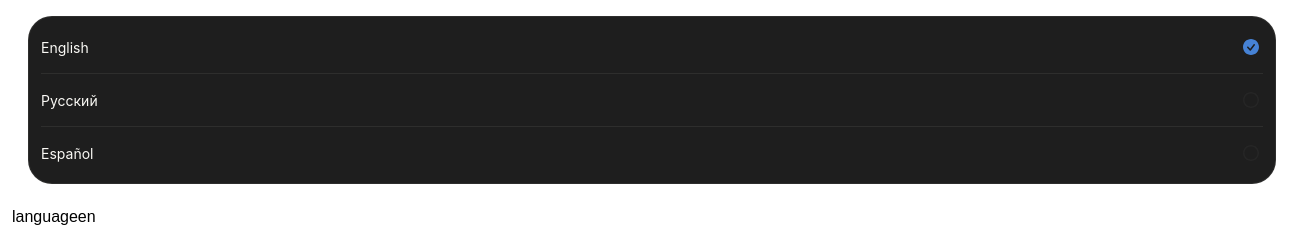
Test: LanguageScreen › selecting a language persists it to preferences without navigating away
Click the button "Русский".
click(69, 100)  # box [41,74,1263,126]
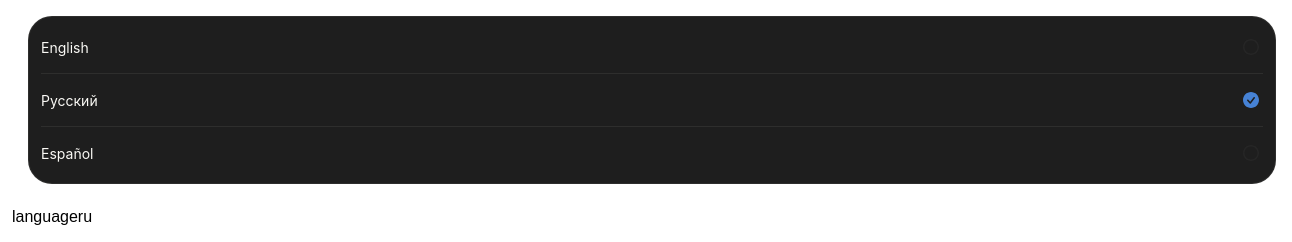
Expected: the text with test id "current-screen" reads "language", [12,208,78,225]
Result: the text with test id "current-language" reads "ru" at [78,208,92,225]
